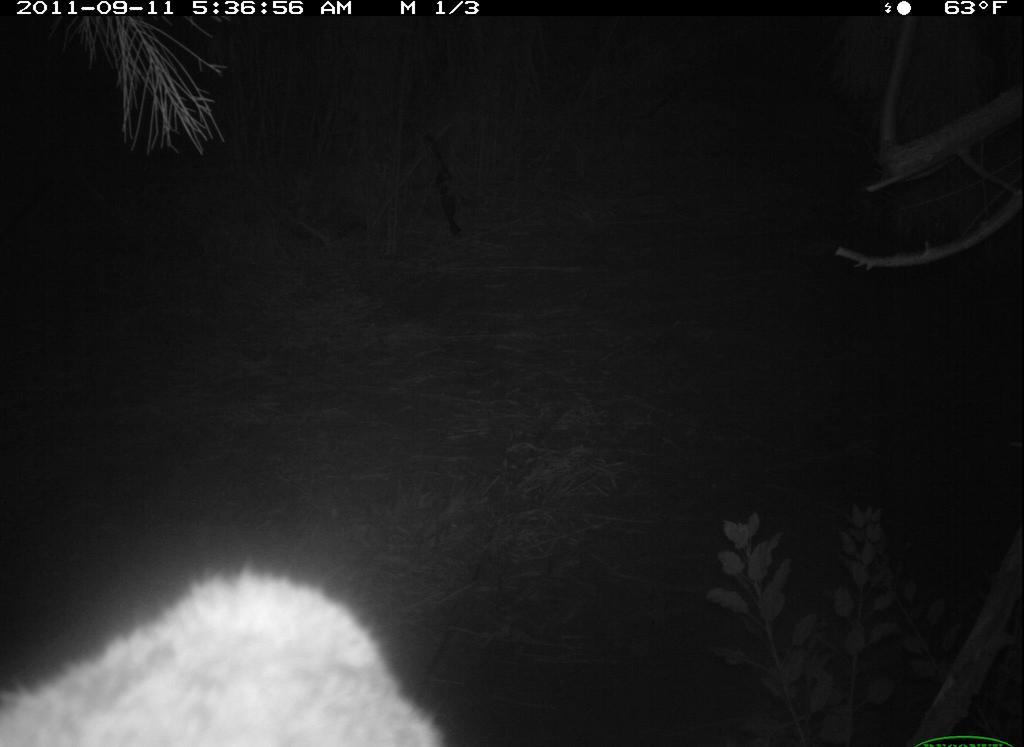bobcat: (6, 562, 455, 747)
